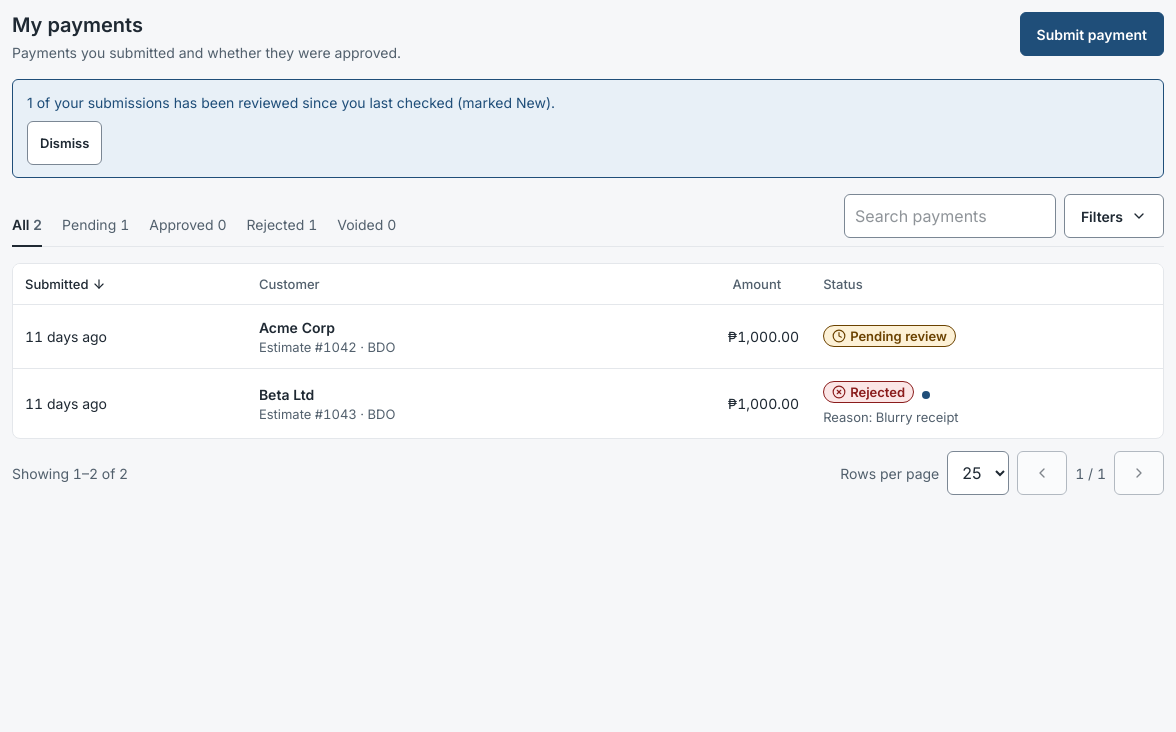
Test: MyPaymentsPage › searches by customer and offers to clear when nothing matches
Expected: the text "Acme Corp" is shown, [259,319,335,336]
Type "zzz" into the search field named "Search by customer" at (950,216), box [844,194,1056,238]
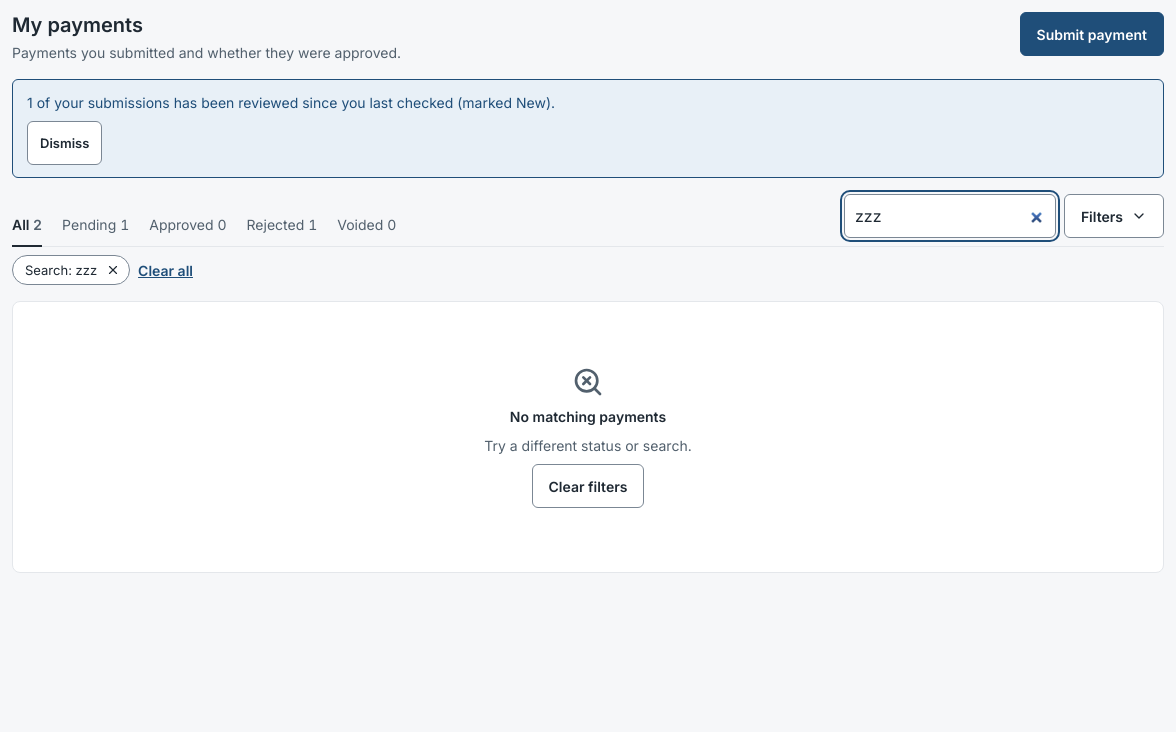
Now the text "No matching payments" is shown, box [510,406,666,427]
Click the button "Clear filters" at (588,486), box [532,464,644,508]
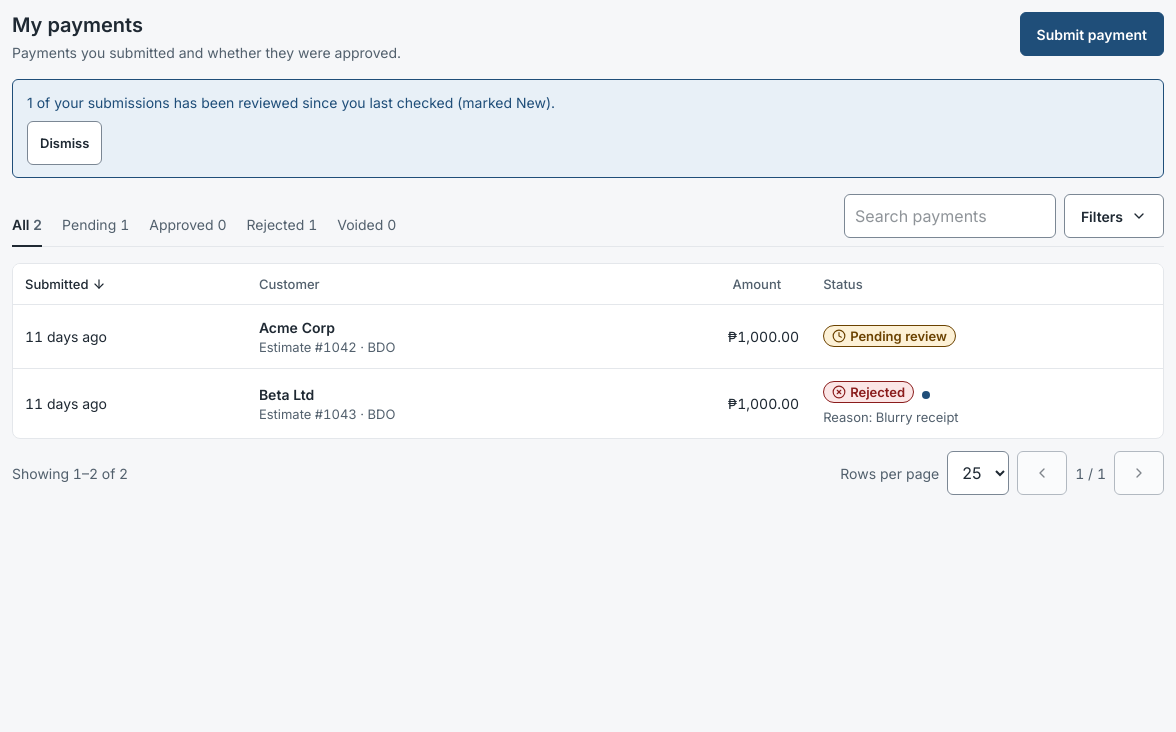
Now the text "Acme Corp" is shown, box [259,319,335,336]
